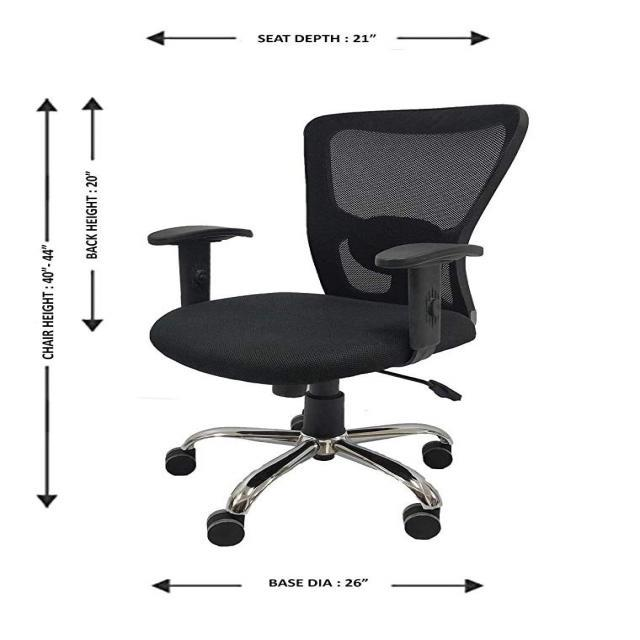chair: (123, 79, 555, 552)
